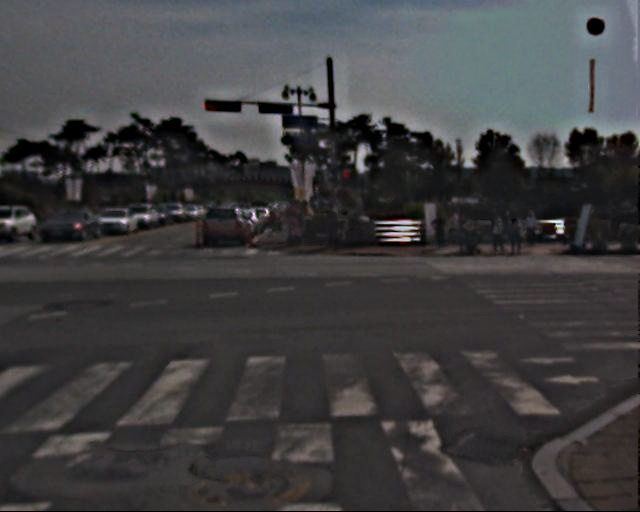person: (269, 203, 313, 241), (457, 208, 477, 257), (510, 213, 530, 259), (491, 214, 511, 259), (324, 204, 343, 251), (524, 208, 542, 252), (433, 209, 450, 251), (452, 209, 469, 250)
